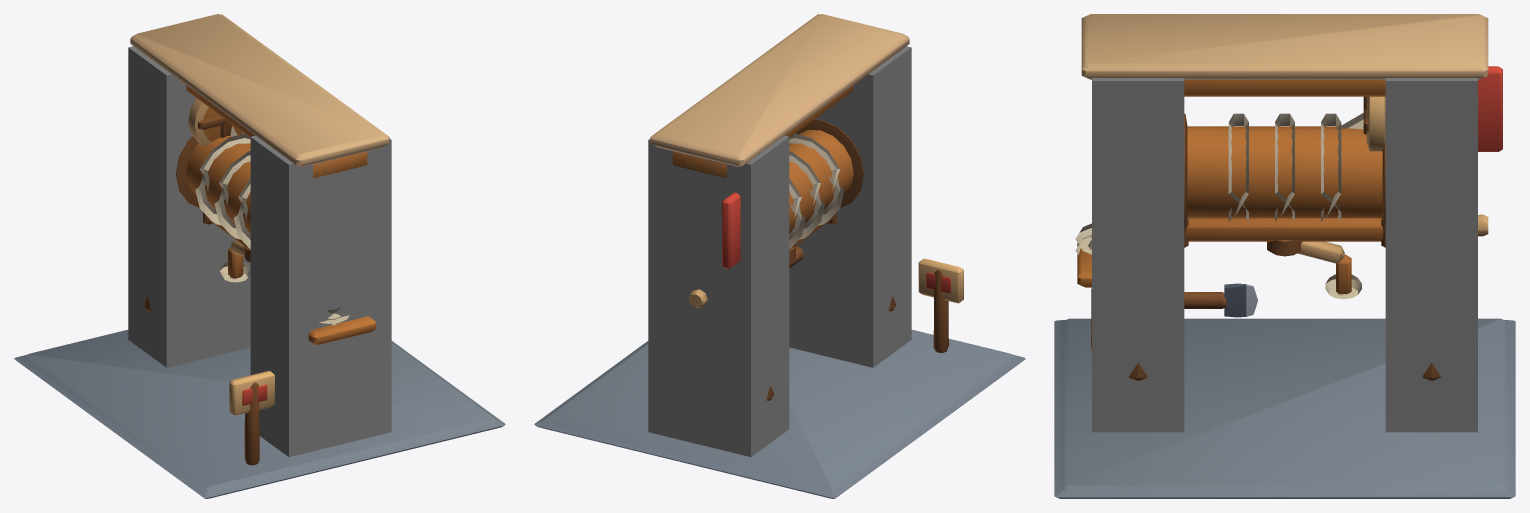
File: rope_binder.glb
The picture shows the model from 3 angles, left to right: view 1: azimuth 30°, elevation 25°; view 2: azimuth 150°, elevation 25°; view 3: azimuth 270°, elevation 25°; orthographic projection. The views are drawn at different scales.
Parts seen in each view (by area): view 1: RopeBinder_Static, COL_FrameNegY, COL_FramePosY, Anim_Drum, Anim_Pulley, Binder_WrapArm; view 2: RopeBinder_Static, COL_FramePosY, COL_FrameNegY, Anim_Drum; view 3: RopeBinder_Static, COL_FrameNegY, COL_FramePosY, Anim_Drum, Binder_DropCarriage, Binder_WrapArm, Binder_CutterArm, Anim_Pulley.
Part boxes in pixels (x1,y1,x2,y2): RopeBinder_Static: (14,14,505,498); COL_FrameNegY: (250,135,391,456); COL_FramePosY: (128,46,250,367); Anim_Drum: (176,133,250,249); Anim_Pulley: (188,98,244,146); Binder_WrapArm: (220,240,250,282); RopeBinder_Static: (534,14,1025,498); COL_FramePosY: (648,135,789,456); COL_FrameNegY: (789,46,911,367); Anim_Drum: (689,119,863,307); RopeBinder_Static: (1054,14,1515,498); COL_FrameNegY: (1092,78,1184,432); COL_FramePosY: (1385,78,1477,432); Anim_Drum: (1184,113,1488,236); Binder_DropCarriage: (1184,218,1385,247); Binder_WrapArm: (1267,240,1361,299); Binder_CutterArm: (1184,283,1257,317); Anim_Pulley: (1363,96,1385,151).
Bounding box in the file's own units: 2 × 1.96 × 2.2.
